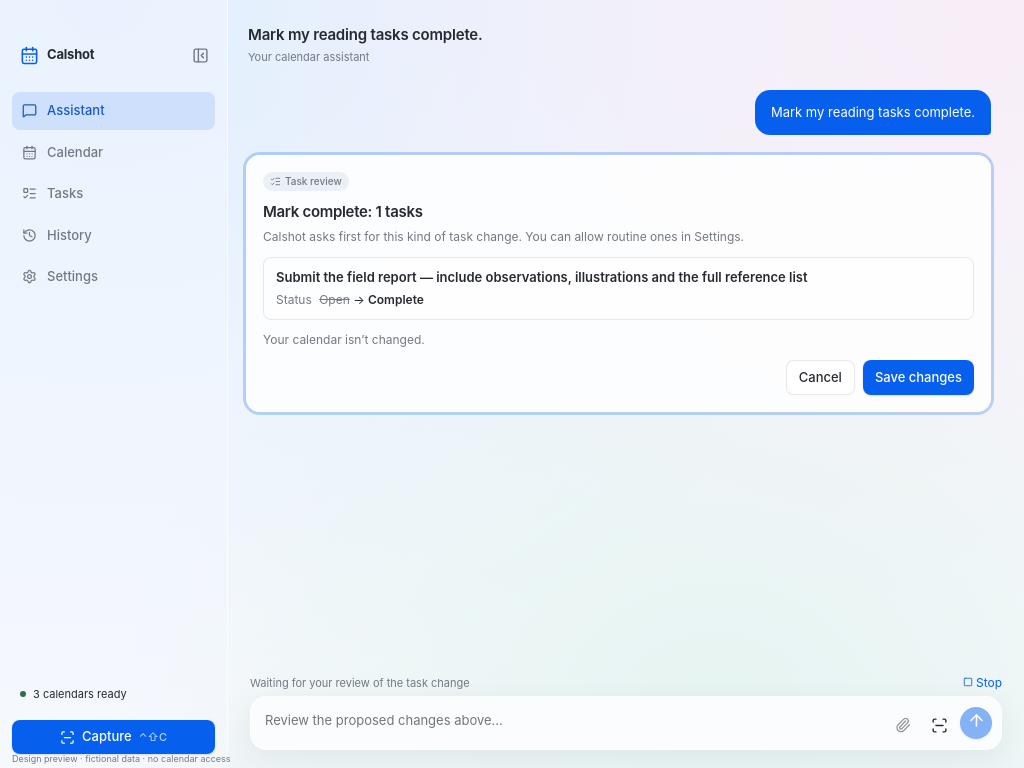
Test: Task-only review in the conversation › keeps the review usable and shows a stale-click error next to it
Click the button "Save changes" at (918, 377), box 863,360 -> 974,395
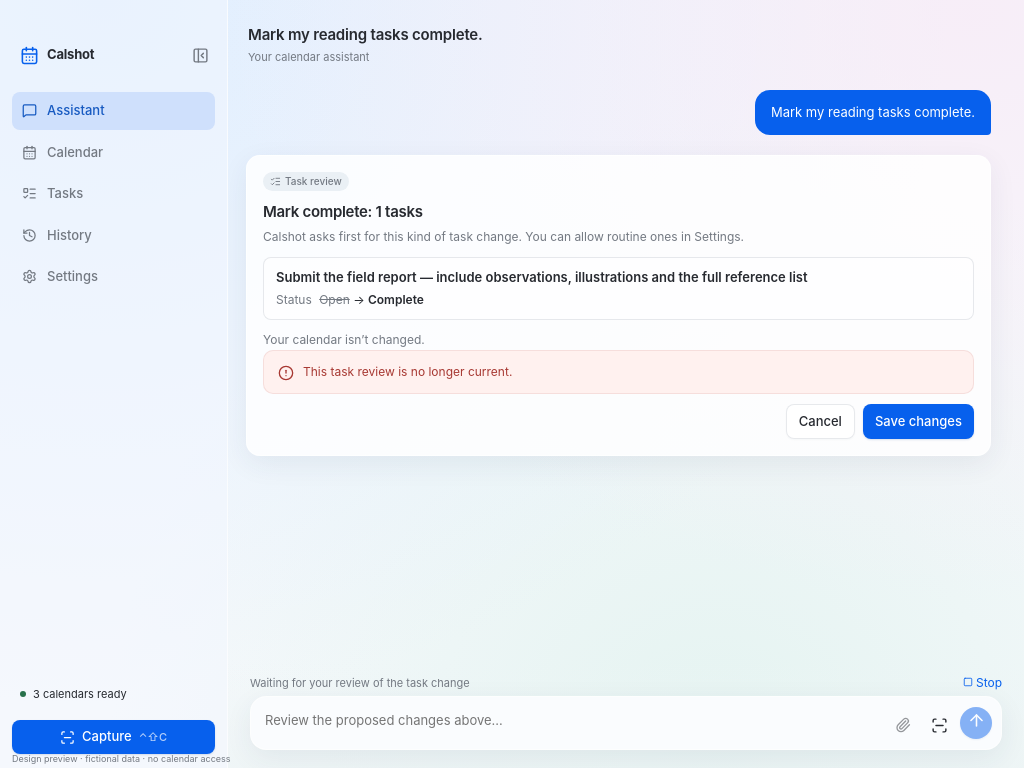
Check: the button "Save changes" is enabled, box 863,404 -> 974,439
Check: the message "This task review is no longer current." is shown, box 263,350 -> 974,394
